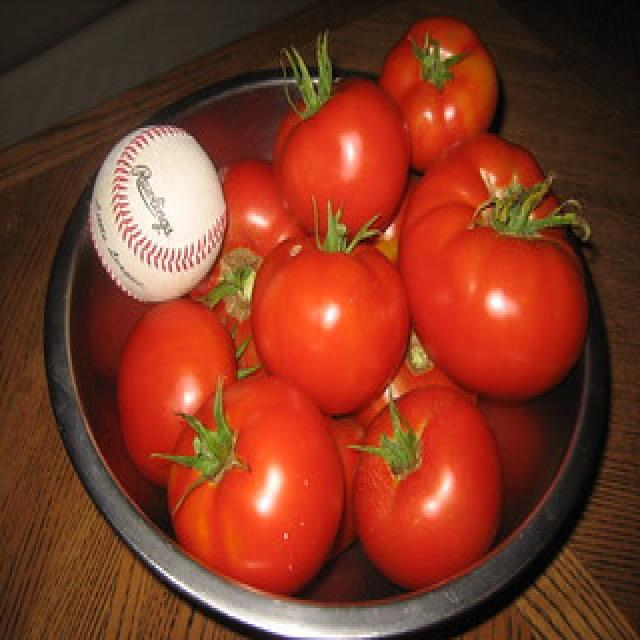kirmizi: (232, 28, 588, 590)
